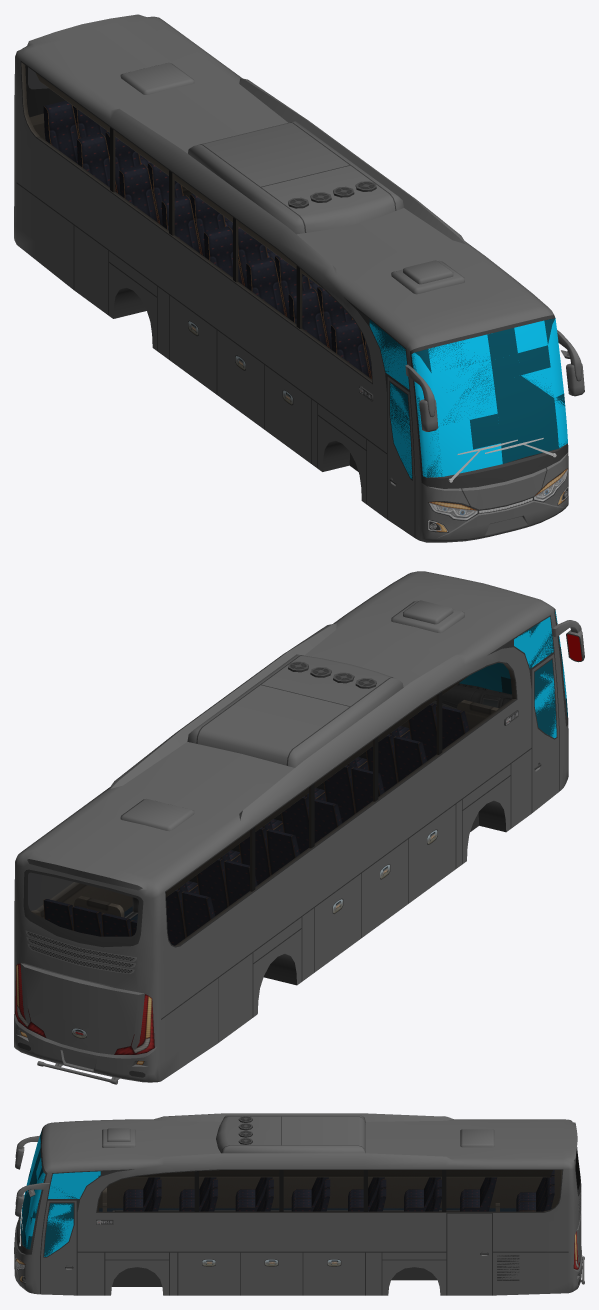
The picture shows the model from 3 angles, top to bottom: view 1: azimuth 30°, elevation 25°; view 2: azimuth 150°, elevation 25°; view 3: azimuth 270°, elevation 25°; orthographic projection. The views are drawn at different scales.
Parts seen in each view (by area): view 1: livery, window, kacaHujan, Komponen, KomponenLow, lampKota, liveryLow; view 2: livery, window, Komponen, KomponenLow, kacaHujan, liveryLow, dashboard, lampKotaStop; view 3: livery, window, KomponenLow, Komponen, PintuBelakang, PintuDepan, kacaHujan, liveryLow, jendela-hujan, PintuDepanWindow, lampKota.
Boxes of the visible parts, x1,y1,x2,y2 form: livery: (14,14,584,542); window: (21,62,564,478); kacaHujan: (369,318,567,478); Komponen: (43,101,371,378); KomponenLow: (21,63,371,381); lampKota: (188,320,568,532); liveryLow: (14,198,73,289); livery: (14,571,584,1084); window: (28,616,567,945); Komponen: (43,700,498,945); KomponenLow: (31,664,516,945); kacaHujan: (460,610,567,738); liveryLow: (18,964,218,1077); dashboard: (432,685,511,708); lampKotaStop: (18,963,148,1054); livery: (14,1113,584,1295); window: (20,1131,580,1249); KomponenLow: (97,1151,579,1211); Komponen: (103,1170,554,1211); PintuBelakang: (446,1213,492,1295); PintuDepan: (40,1199,77,1295); kacaHujan: (20,1132,100,1249); liveryLow: (493,1230,581,1295); jendela-hujan: (44,1203,73,1256); PintuDepanWindow: (44,1203,73,1256); lampKota: (15,1259,341,1283).
Size of what is drawn, in the model's own units: 286 by 372 by 1322.
